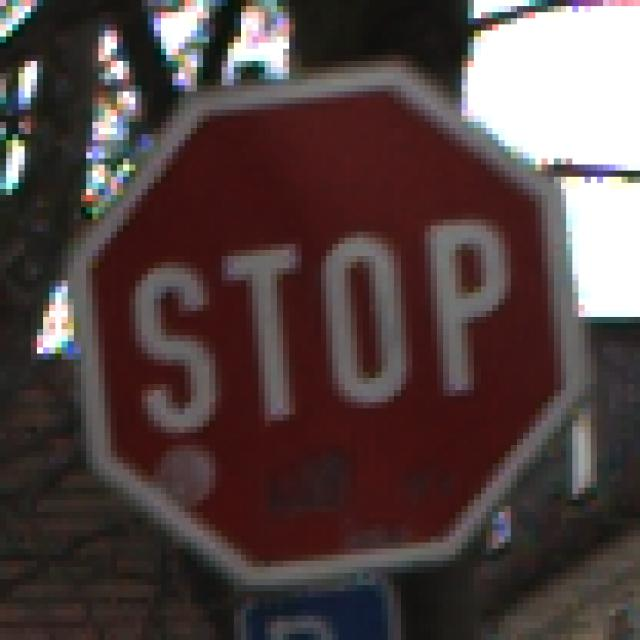STOP: (63, 62, 586, 586)
